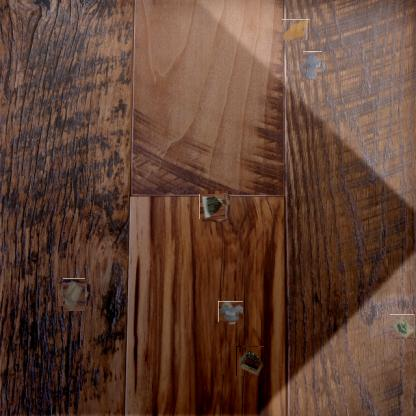dirty: (236, 346, 264, 376), (201, 192, 229, 221), (61, 281, 88, 309), (390, 314, 415, 339), (219, 300, 242, 323)
liquid: (300, 54, 325, 78), (282, 19, 310, 40)
